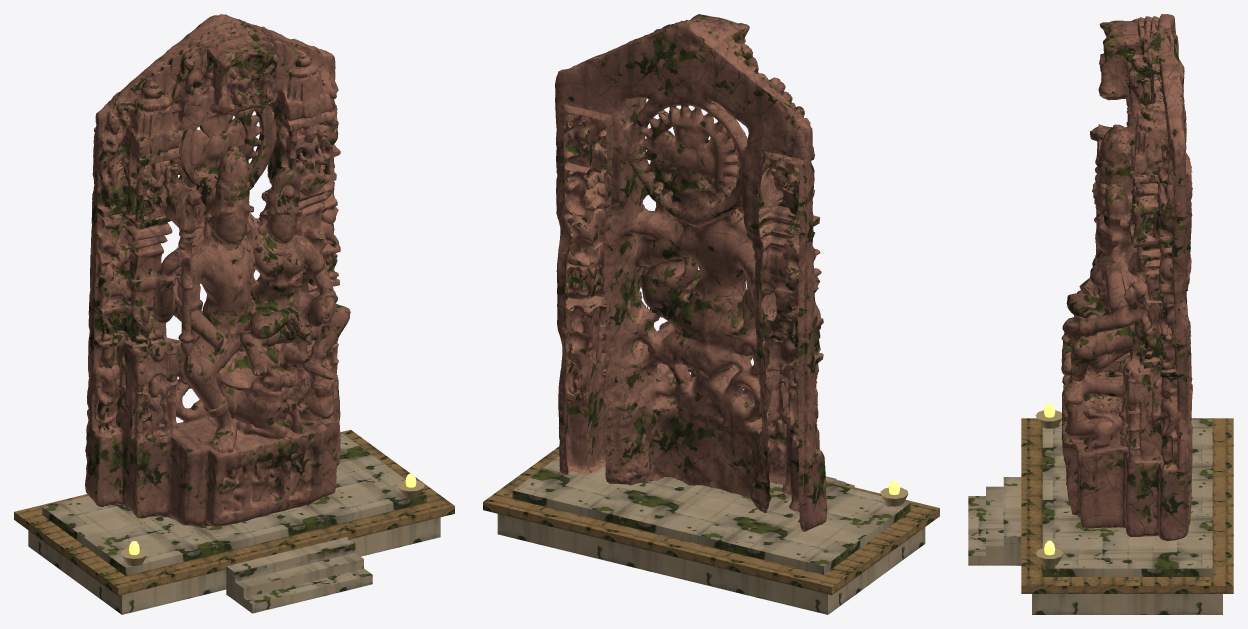
Rendered from UmaMaheshvara.fbx.
The picture shows the model from 3 angles, left to right: view 1: azimuth 30°, elevation 25°; view 2: azimuth 150°, elevation 25°; view 3: azimuth 270°, elevation 25°; orthographic projection. The views are drawn at different scales.
Parts seen in each view (by area): view 1: UmaMaheshvara_LOD0; view 2: UmaMaheshvara_LOD0; view 3: UmaMaheshvara_LOD0.
Boxes of the visible parts, left/top/right/bottom form: UmaMaheshvara_LOD0: left=14, top=14, right=454, bottom=614; UmaMaheshvara_LOD0: left=483, top=14, right=939, bottom=614; UmaMaheshvara_LOD0: left=968, top=14, right=1233, bottom=614.
Size of what is drawn, in the model's own units: 11.2 by 16.3 by 7.5.
